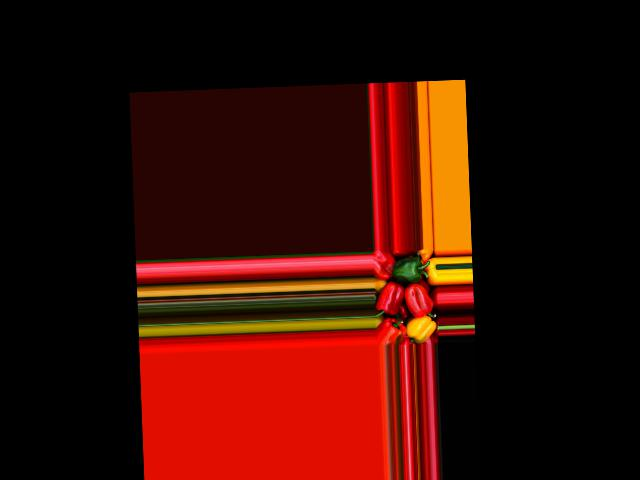bell_pepper: (403, 313, 438, 344)
